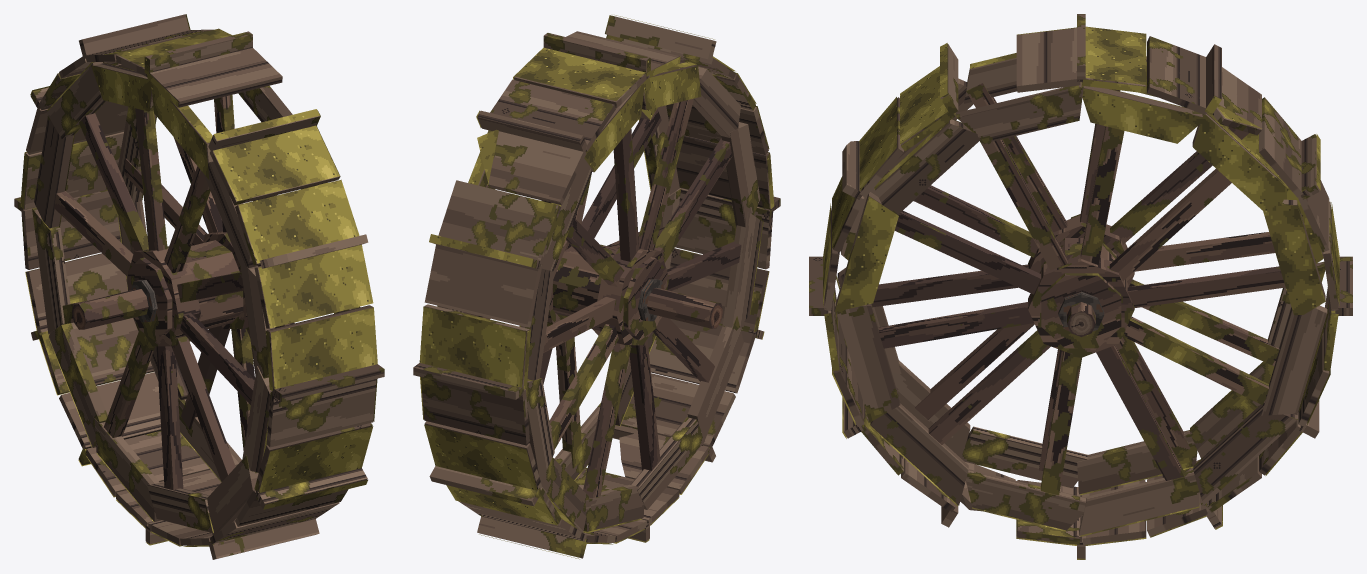
The model's file is SM_SW20_DrownedMillWheel.fbx.
3 views of the same model, side by side, from view 1: azimuth 30°, elevation 25°; view 2: azimuth 150°, elevation 25°; view 3: azimuth 270°, elevation 25° (orthographic). The views are drawn at different scales.
Visible parts, largest first — view 1: SW20w_Planks, SW20w_Moss, SW20w_Bark, SW20w_Props; view 2: SW20w_Planks, SW20w_Bark, SW20w_Moss, SW20w_Props; view 3: SW20w_Planks, SW20w_Bark, SW20w_Moss, SW20w_Props.
Boxes of the visible parts, x1=… form: SW20w_Planks: x1=14, y1=14, x2=384, y2=559; SW20w_Moss: x1=20, y1=14, x2=377, y2=546; SW20w_Bark: x1=54, y1=95, x2=294, y2=489; SW20w_Props: x1=72, y1=280, x2=157, y2=329; SW20w_Planks: x1=413, y1=15, x2=780, y2=558; SW20w_Bark: x1=463, y1=99, x2=741, y2=498; SW20w_Moss: x1=419, y1=15, x2=774, y2=559; SW20w_Props: x1=638, y1=279, x2=722, y2=328; SW20w_Planks: x1=809, y1=14, x2=1352, y2=558; SW20w_Bark: x1=872, y1=83, x2=1285, y2=495; SW20w_Moss: x1=823, y1=14, x2=1339, y2=559; SW20w_Props: x1=1058, y1=291, x2=1104, y2=336.
Bounding box in the file's own units: 1.6 × 3.78 × 3.77.
